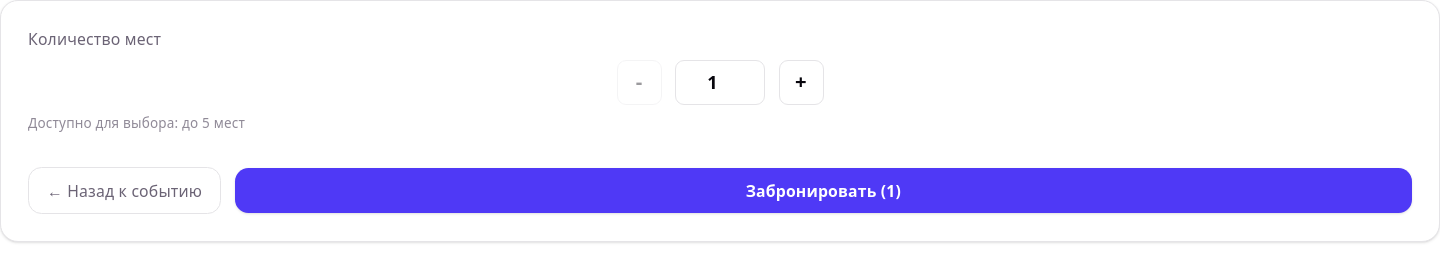
Test case: BookingCreateForm › availableSeats = N (Multi-seat boundaries and stepping) › clamps manually typed input to range [1, availableSeats]
# Typing numbers beyond availableSeats clamps to availableSeats (5)
Replace the text in the number field labelled "Количество мест" with "99": (720, 82) [675,60,765,104]
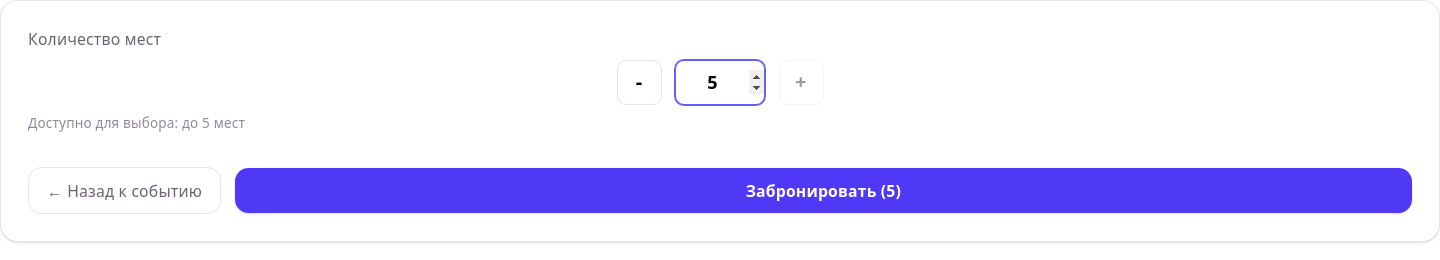
Check: the number field labelled "Количество мест" holds "5"
# Typing 0 clamps to 1
Replace the text in the number field labelled "Количество мест" with "0": (720, 82) [675,60,765,104]
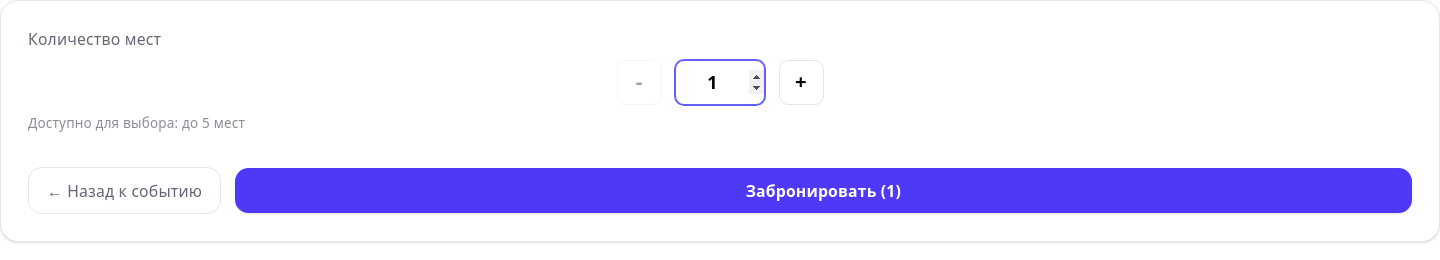
Check: the number field labelled "Количество мест" holds "1", box [675,60,765,104]
